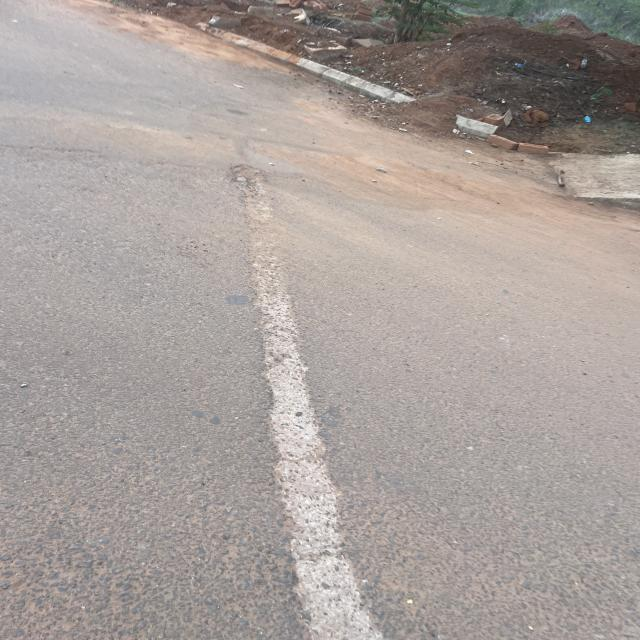D01: (155, 127, 472, 640)
